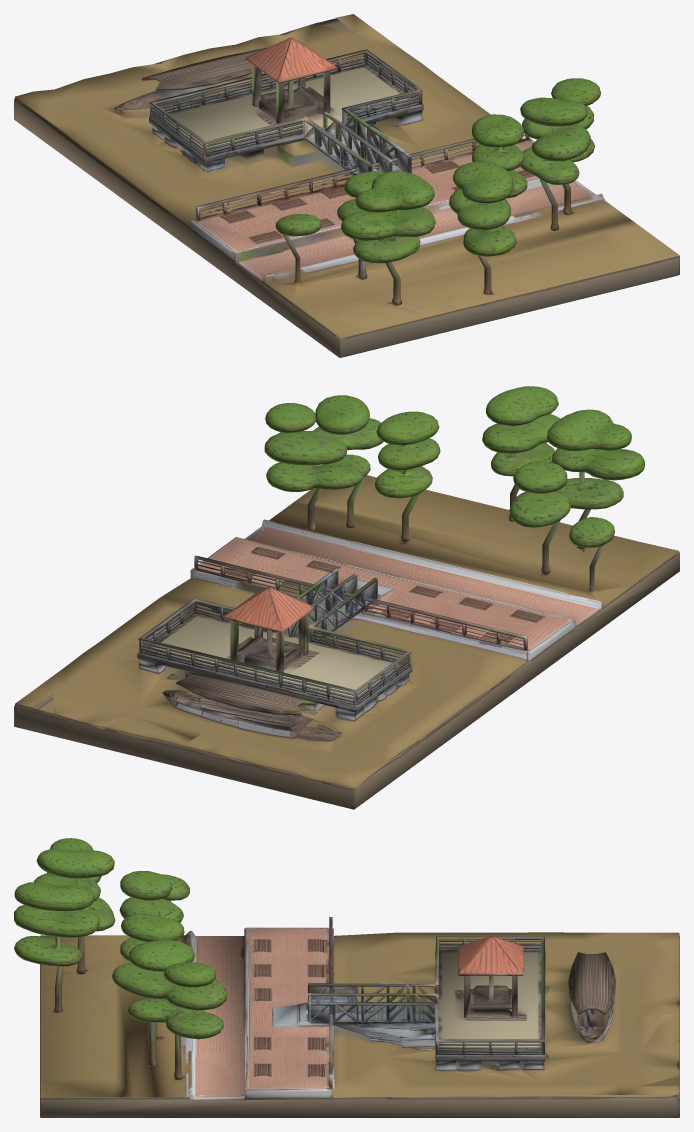
The model's file is muelled.fbx.
3 renders of one model, top to bottom at view 1: azimuth 30°, elevation 25°; view 2: azimuth 150°, elevation 25°; view 3: azimuth 270°, elevation 25°, orthographic.
Parts seen in each view (by area): view 1: mesh_rep_0_ori_repair; view 2: mesh_rep_0_ori_repair; view 3: mesh_rep_0_ori_repair.
Boxes of the visible parts, <box> form: mesh_rep_0_ori_repair: <box>14,14,679,357</box>; mesh_rep_0_ori_repair: <box>14,386,679,809</box>; mesh_rep_0_ori_repair: <box>14,838,679,1117</box>.
Bounding box in the file's own units: 2944 × 1187 × 5074.
Materials: 1 (1 with a texture image).
